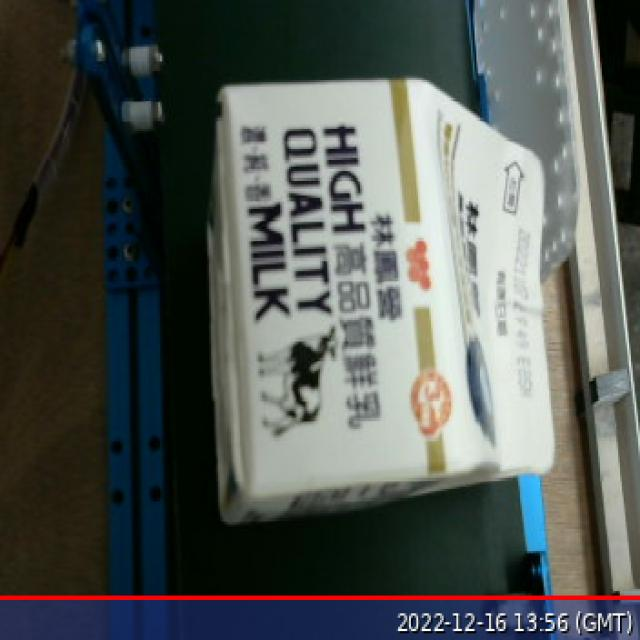non_white_jug: (193, 45, 584, 520)
